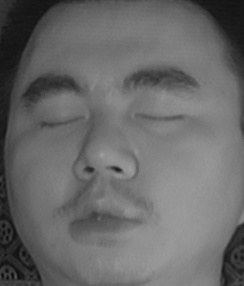blink: (135, 98, 185, 135), (38, 104, 88, 136)
mouth: (62, 190, 145, 248)
